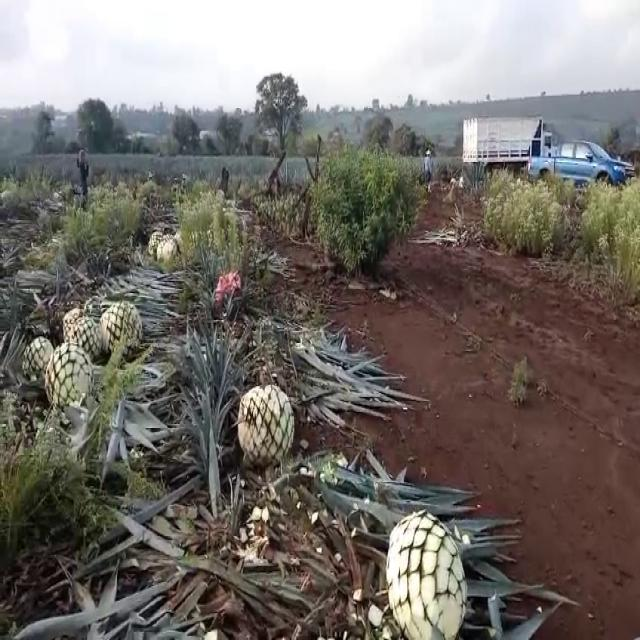agave: (378, 510, 474, 640), (236, 372, 299, 472), (43, 339, 92, 410), (98, 295, 144, 348), (22, 333, 54, 378), (68, 319, 102, 357), (62, 306, 89, 342), (144, 230, 160, 258), (160, 239, 177, 265), (157, 233, 172, 259)
